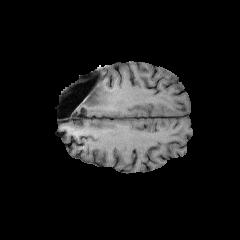glioma: (82, 84, 113, 108)
